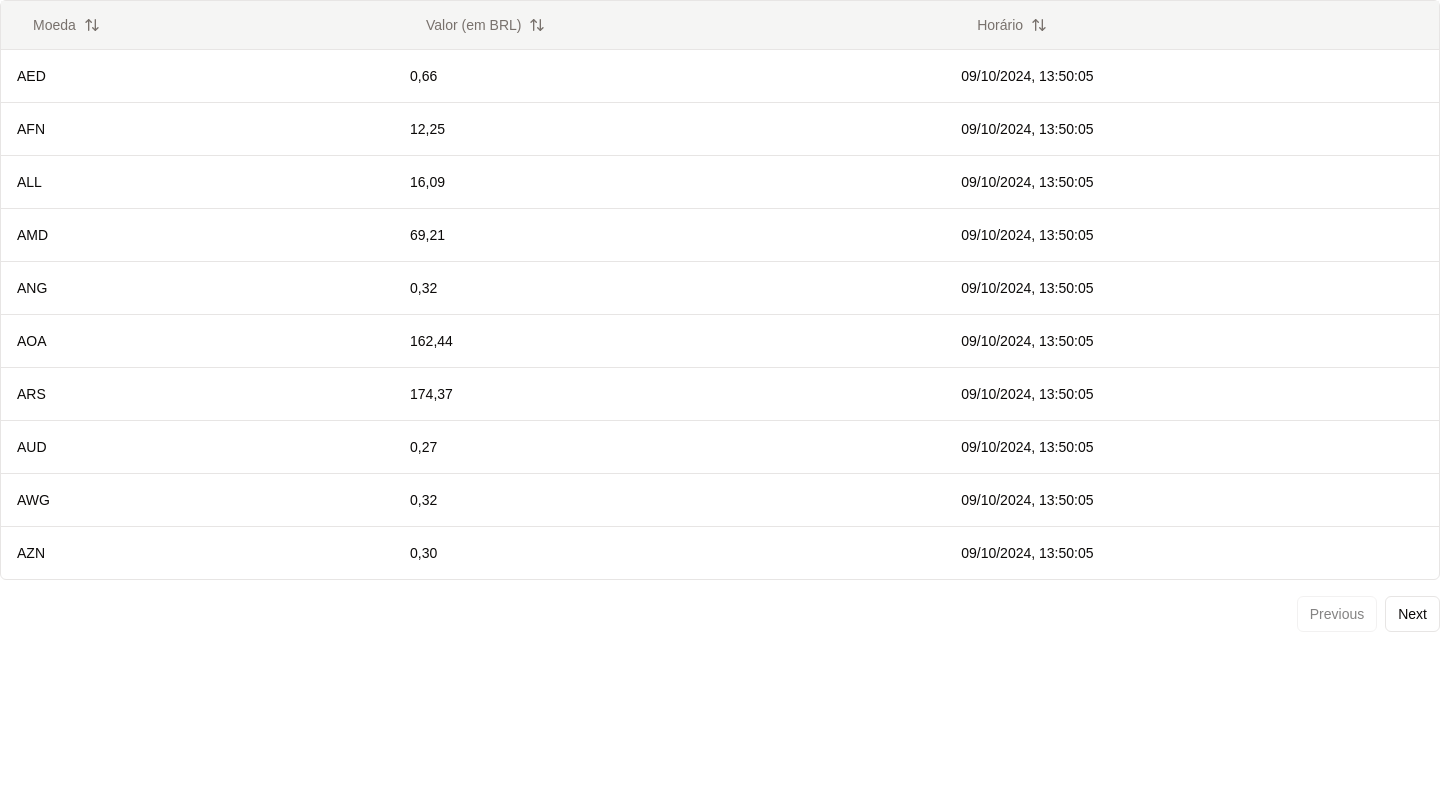
it: Currency table tests when table load with success › should go to next page clicking on next button
The width and height of the screenshot is (1452, 810).
Check: the row with test id "AED" is shown, box [1,49,1439,102]
Click the button with test id "next-button".
click(1413, 614)  # box [1385,596,1440,632]
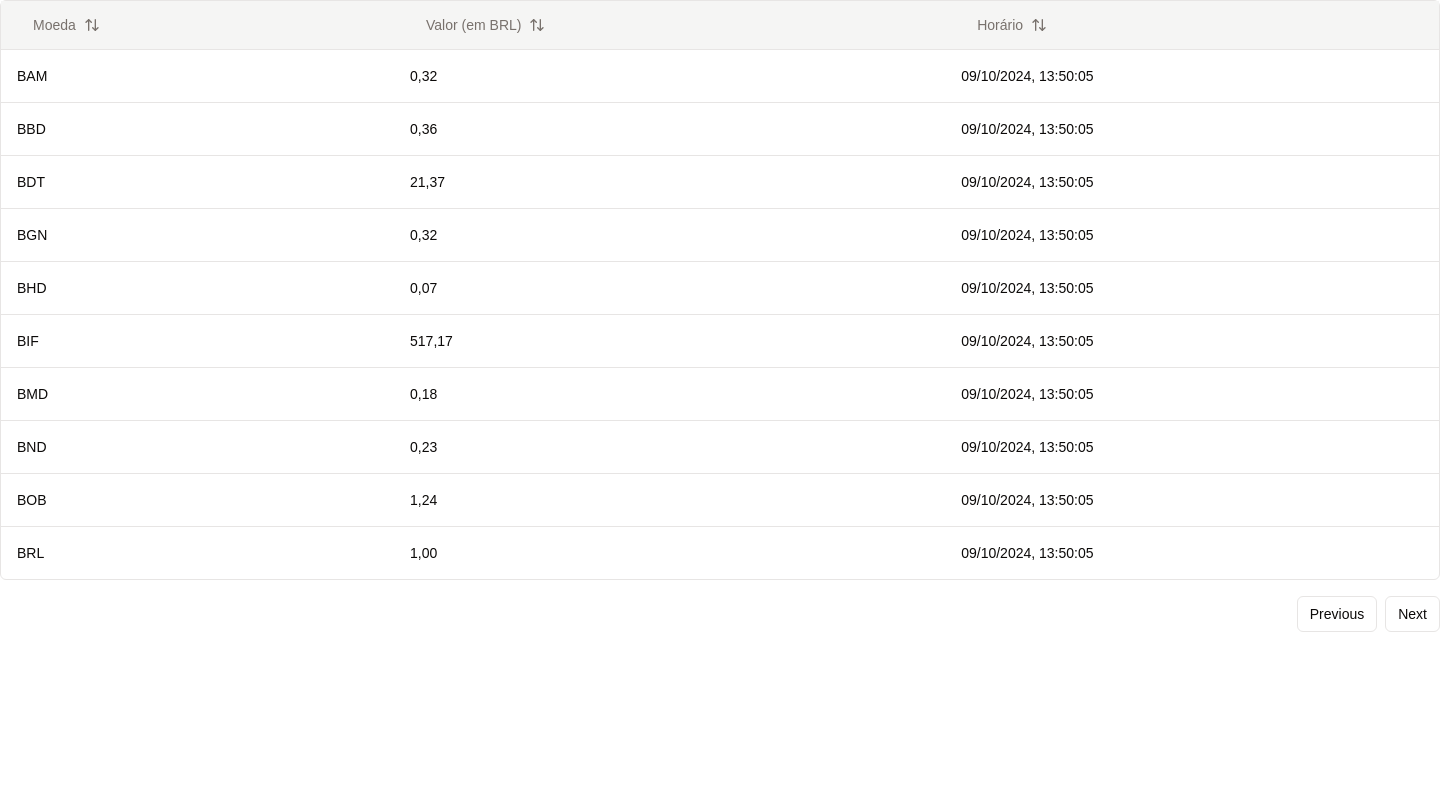
Check: the row with test id "BAM" is shown, box [1,49,1439,102]
Check: the row with test id "BBD" is shown, box [1,102,1439,155]
Check: the row with test id "BDT" is shown, box [1,155,1439,208]
